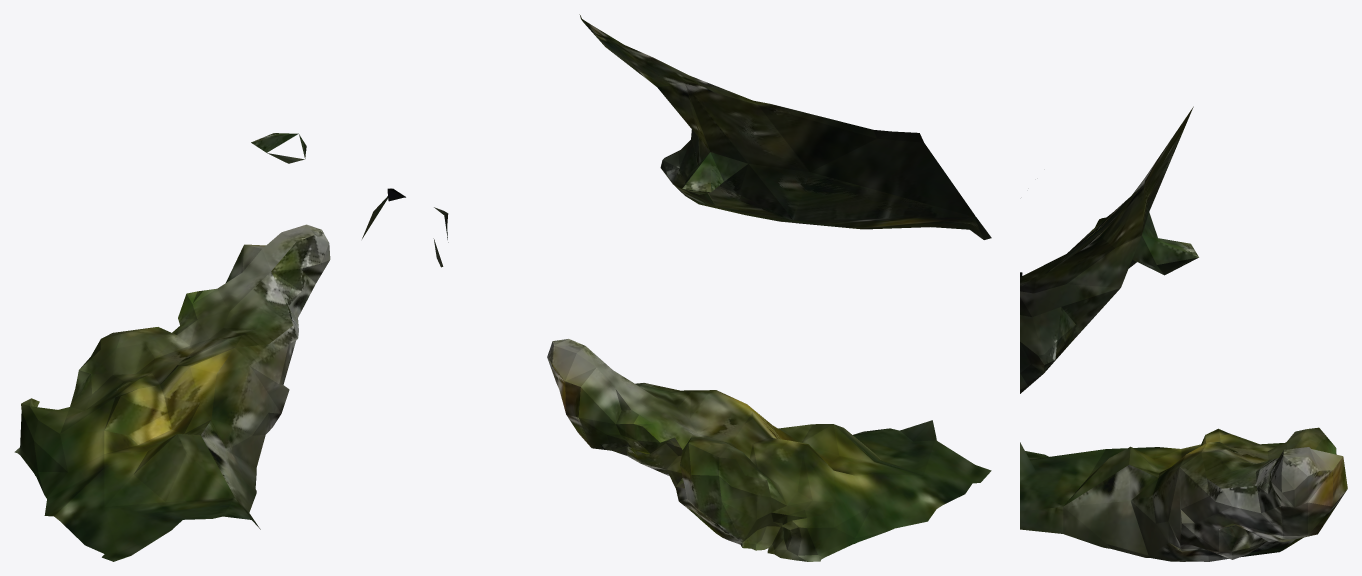
3 renders of one model, left to right at view 1: azimuth 30°, elevation 25°; view 2: azimuth 150°, elevation 25°; view 3: azimuth 270°, elevation 25°, orthographic. The views are drawn at different scales.
Size of the model in its own units: 0.8374 by 0.8374 by 0.5643.
3 materials, 3 textured.
